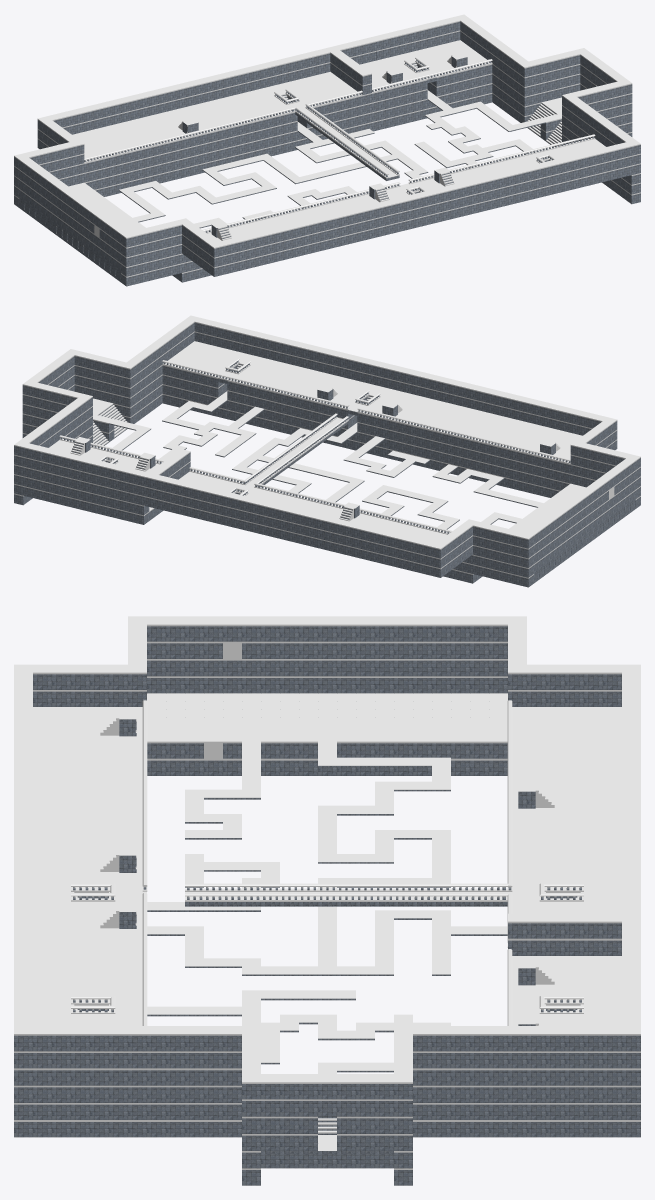
File: mazeview.obj
3 renders of one model, top to bottom at view 1: azimuth 30°, elevation 25°; view 2: azimuth 150°, elevation 25°; view 3: azimuth 270°, elevation 25°, orthographic. The views are drawn at different scales.
Visible parts, largest first — view 1: mergedBlocks; view 2: mergedBlocks; view 3: mergedBlocks.
Part boxes in pixels (left/top/right/bottom): mergedBlocks: left=14, top=14, right=640, bottom=286; mergedBlocks: left=14, top=315, right=640, bottom=587; mergedBlocks: left=14, top=616, right=640, bottom=1185.
Size of the model in its own units: 58 by 6 by 33.
